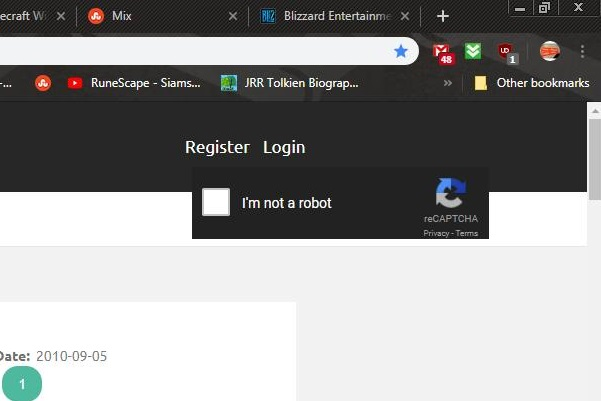captcha: (202, 187, 337, 215)
